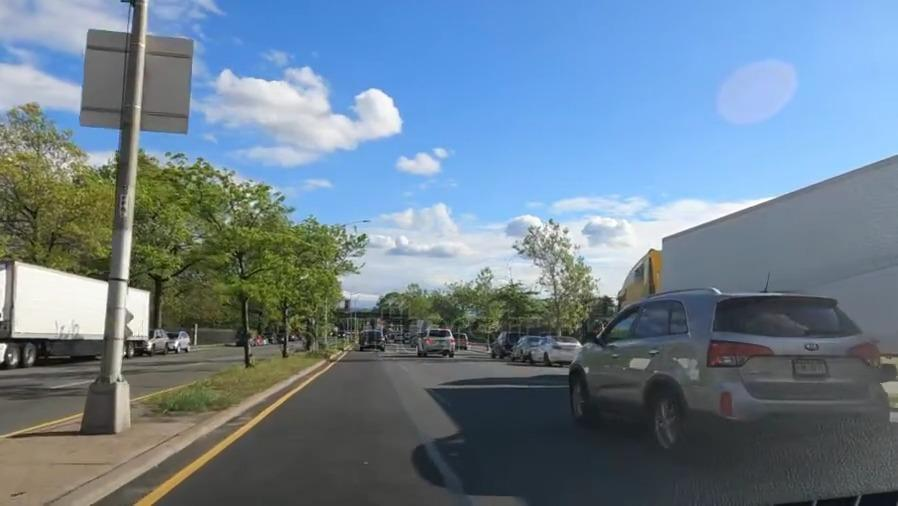car: (586, 294, 878, 445), (534, 333, 579, 365), (421, 327, 452, 357), (514, 334, 538, 363), (492, 331, 517, 357), (142, 329, 169, 353), (360, 330, 385, 353), (168, 332, 192, 352), (453, 332, 470, 349)
truck: (622, 161, 898, 323), (1, 262, 151, 366)
wheel: (646, 385, 688, 449), (569, 372, 593, 423)
